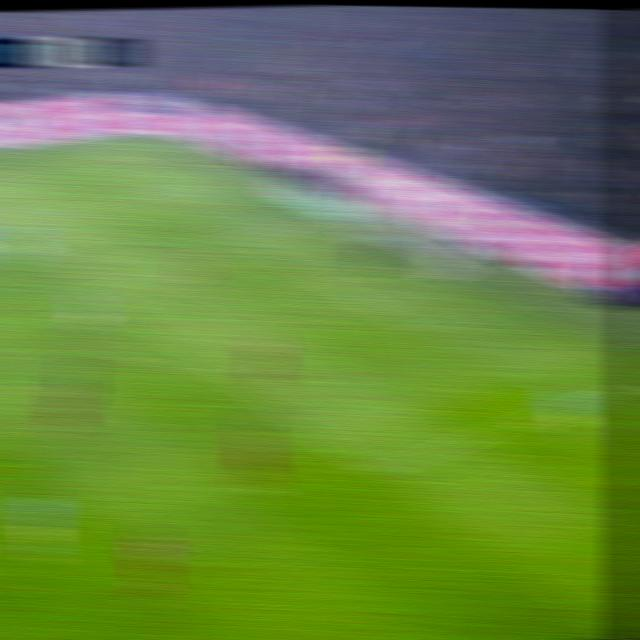bigarea_bottom_inner: (359, 462, 390, 479)
bigarea_top_inner: (0, 215, 9, 231)
bigarea_top_outter: (208, 175, 235, 185)
corner: (116, 135, 146, 142)
smallarea_bottom_inner: (403, 320, 437, 338)
smallarea_bottom_outter: (483, 298, 513, 314)
smallarea_top_inner: (225, 229, 256, 244)
smallarea_top_outter: (295, 217, 321, 226)
top_arc_area_intersection: (72, 276, 98, 288)
